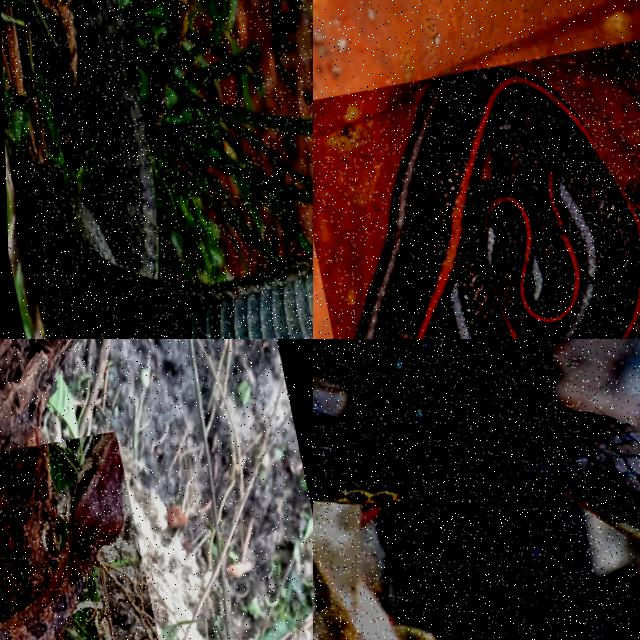Calliophis intestinalis: (359, 68, 639, 338)
Calloselasma rhodostoma: (0, 432, 120, 639)
Ophiophagus hannah: (14, 0, 312, 338), (313, 339, 639, 639)
snake: (14, 0, 312, 338), (313, 339, 639, 639), (359, 68, 639, 338), (0, 432, 120, 639)
